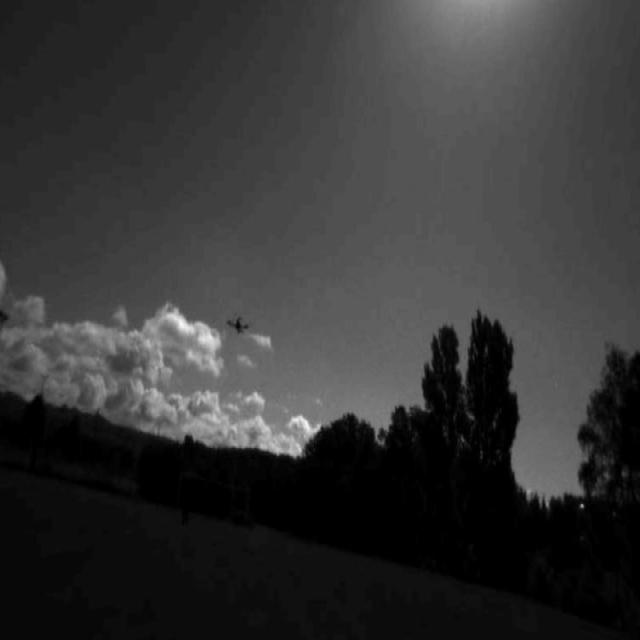drone: (224, 308, 249, 337)
